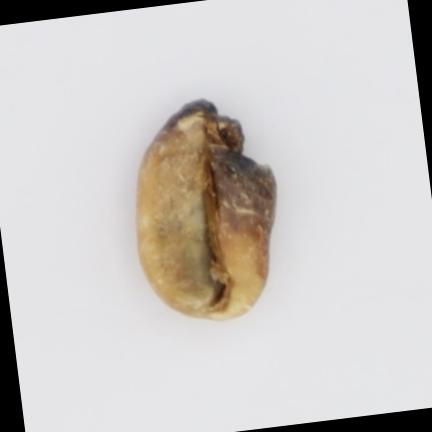partial-black: (136, 99, 275, 319)
